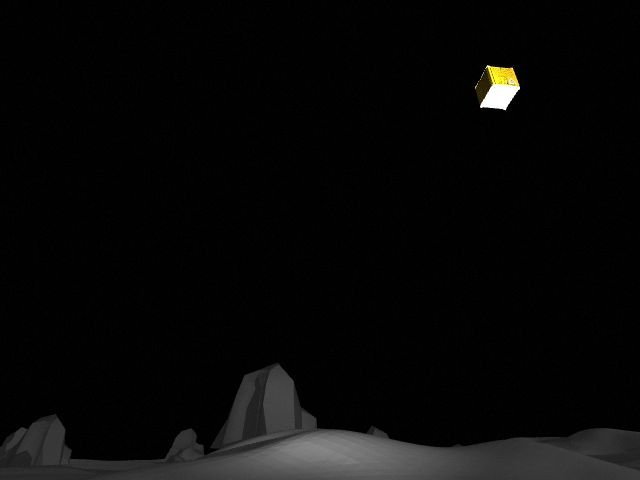cubesat: (471, 58, 521, 119)
